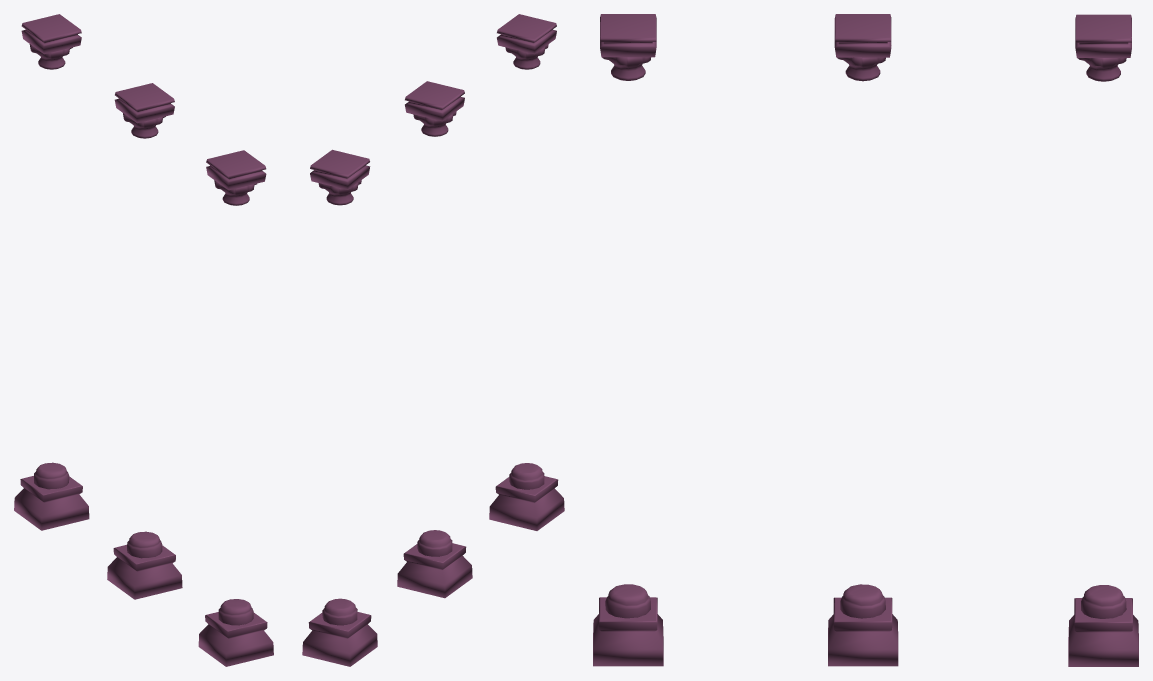
The model's file is Wall_Arc_07B_Lod0.fbx.
3 views of the same model, side by side, from view 1: azimuth 30°, elevation 25°; view 2: azimuth 150°, elevation 25°; view 3: azimuth 270°, elevation 25° (orthographic). The views are drawn at different scales.
Parts seen in each view (by area): view 1: Wall_Arc_07B_Lod0; view 2: Wall_Arc_07B_Lod0; view 3: Wall_Arc_07B_Lod0.
Boxes of the visible parts, left/top/right/bottom form: Wall_Arc_07B_Lod0: left=14, top=14, right=273, bottom=666; Wall_Arc_07B_Lod0: left=302, top=14, right=564, bottom=666; Wall_Arc_07B_Lod0: left=593, top=14, right=1138, bottom=666.
Size of the model in its own units: 62.32 by 594 by 470.
